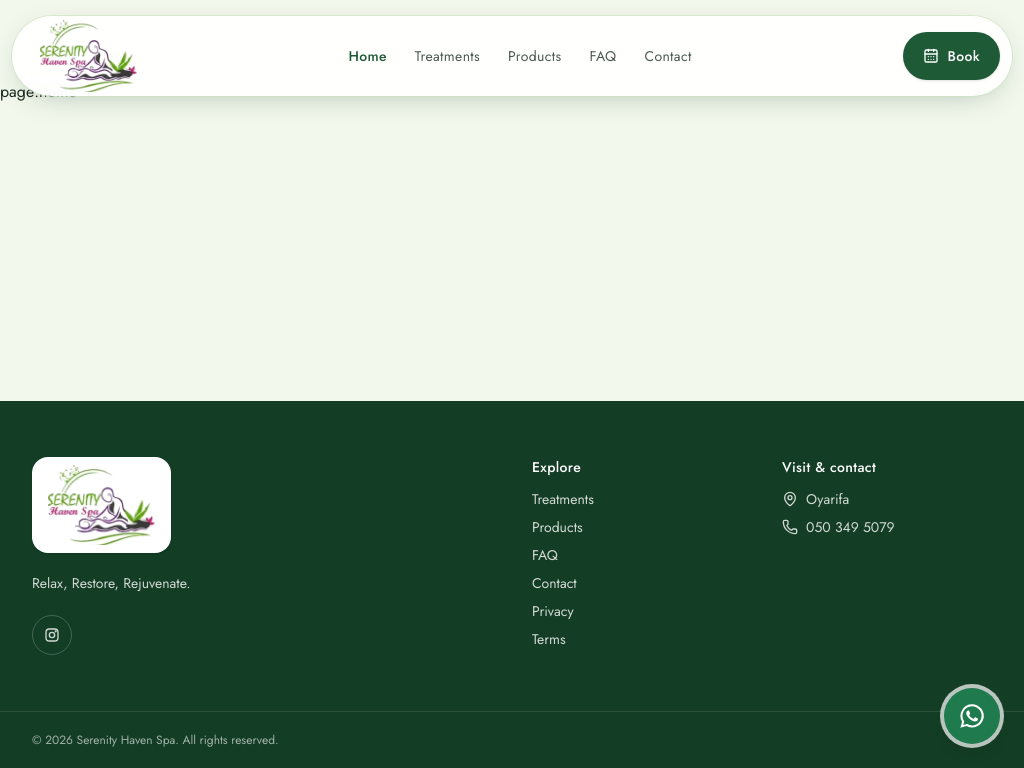
Test: public site navigation › survives in-site navigation when scrollTo returns a Promise (newer Chrome)
This screenshot has width=1024, height=768.
What coordinates should you click on to do the following:
click the link "Contact" in the row of "Book"
I would click on:
 (668, 56)
Its box is [644,46,692,66].
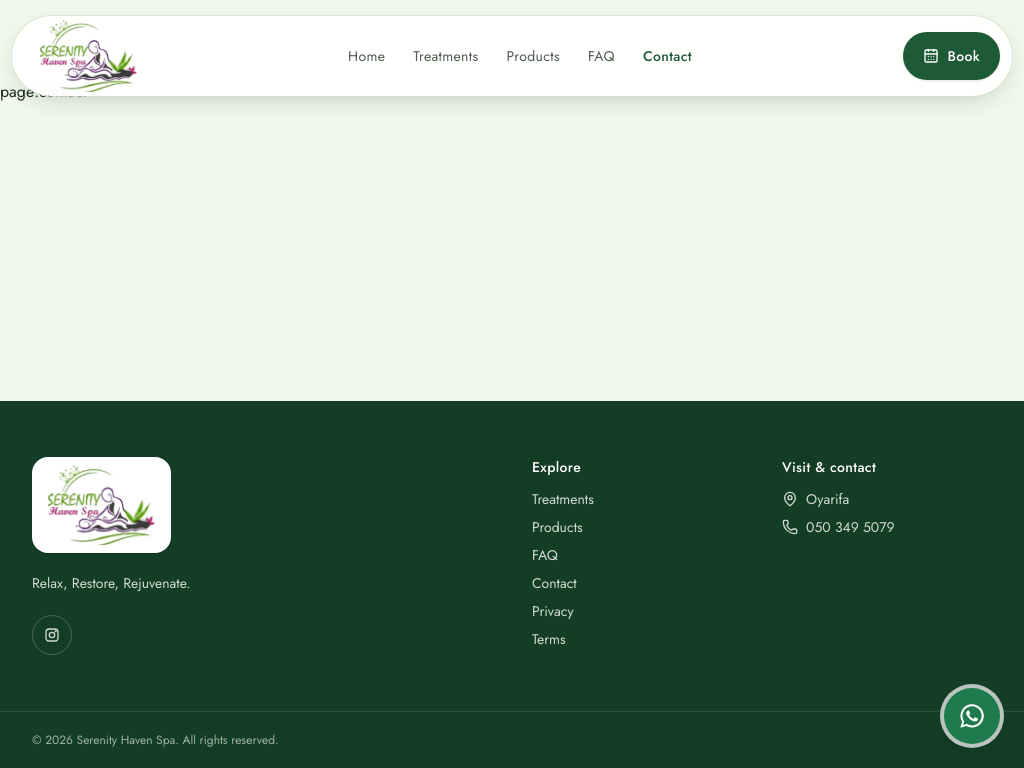
Check: the text "page:contact" is shown, box [0,80,87,103]
What coordinates should you click on to do the following:
click the link "FAQ" in the row of "Home"
I would click on:
 (602, 56)
Its box is [588,46,615,66].
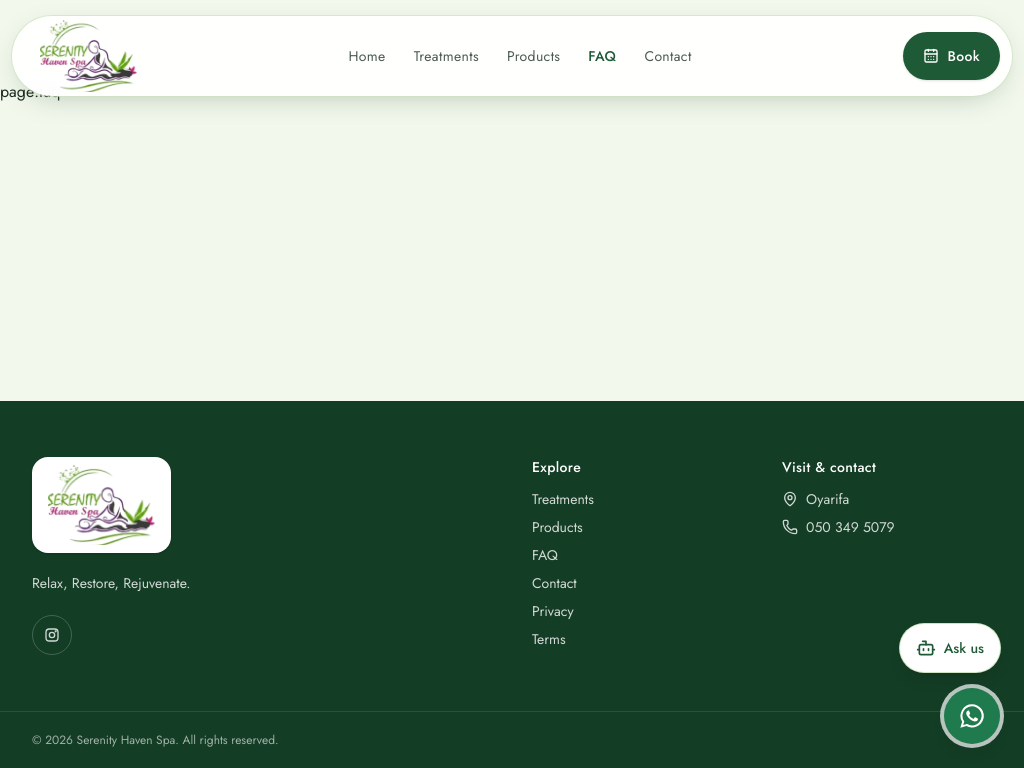
Check: the text "page:faq" is shown, box [0,80,60,103]
What coordinates should you click on to do the following:
click the link named "Home"
I would click on:
 (88, 56)
Its box is [40,20,137,92].
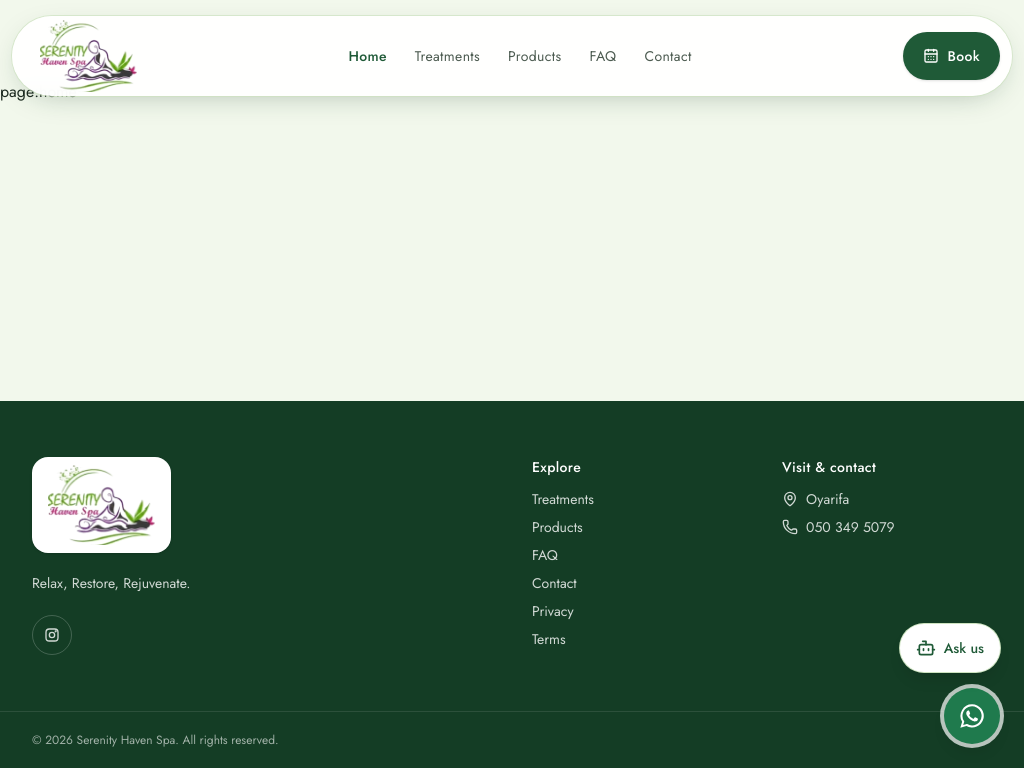
Check: the text "page:home" is shown, box [0,80,77,103]
What coordinates should you click on to do the following:
click the link "Contact" in the row of "Book"
I would click on:
 (668, 56)
Its box is [644,46,692,66].
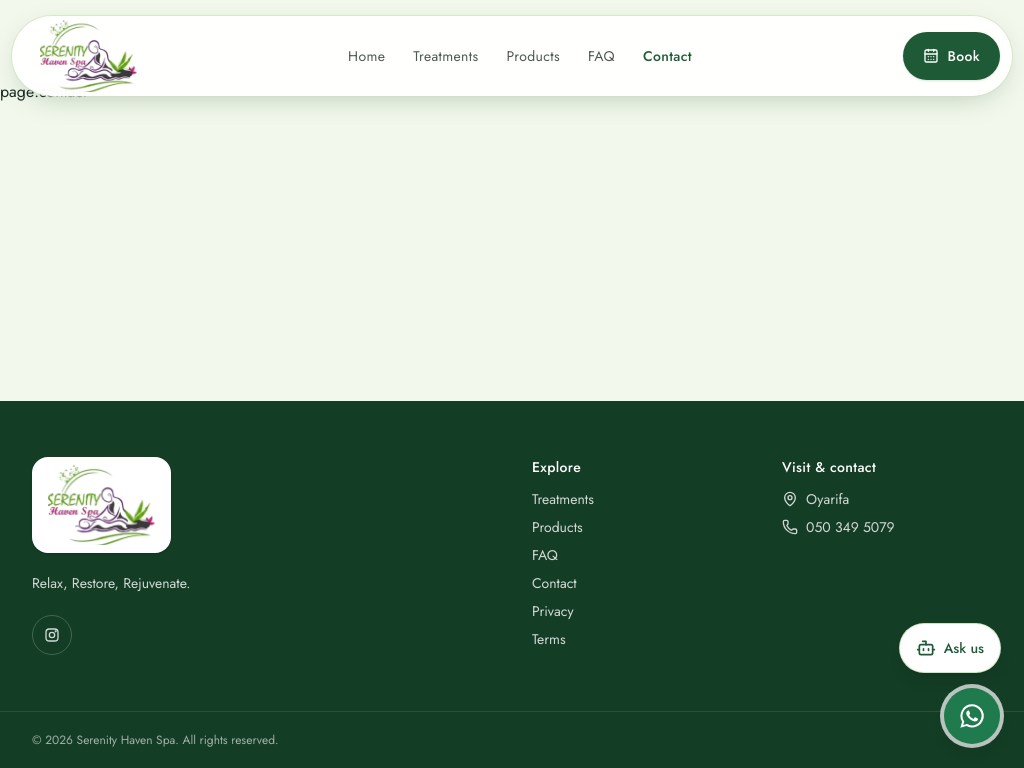
Check: the text "page:contact" is shown, box [0,80,87,103]
